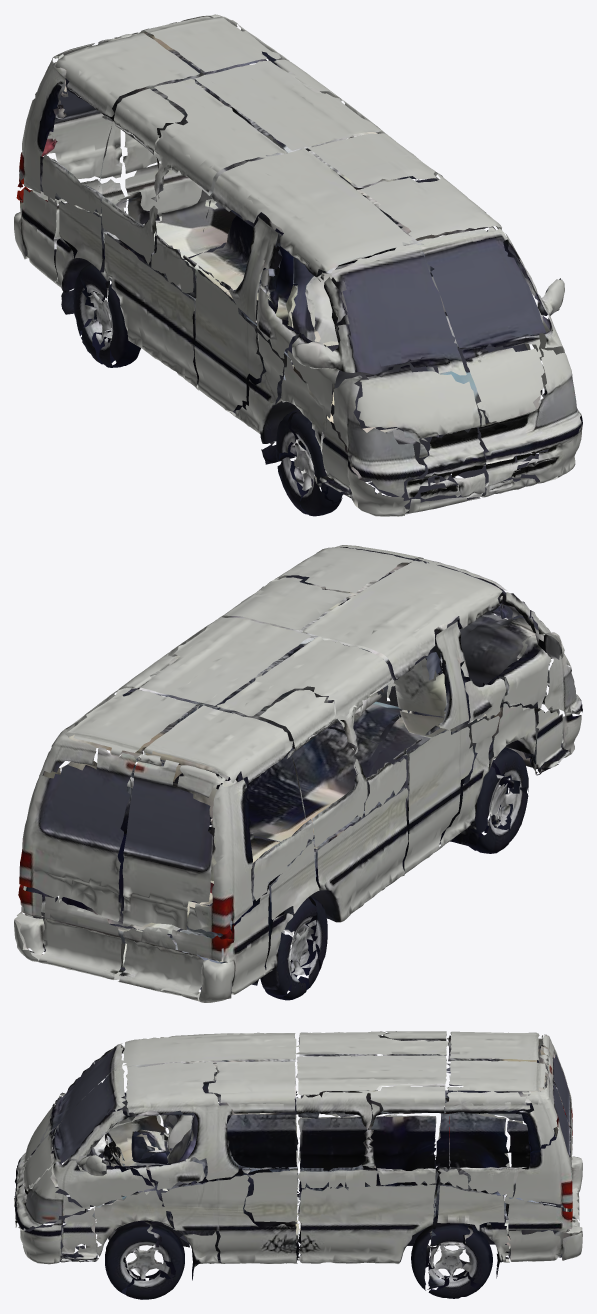
Rendered from hiace2000.glb.
3 renders of one model, top to bottom at view 1: azimuth 30°, elevation 25°; view 2: azimuth 150°, elevation 25°; view 3: azimuth 270°, elevation 25°, orthographic. The views are drawn at different scales.
Parts seen in each view (by area): view 1: Car; view 2: Car; view 3: Car.
Boxes of the visible parts, x1,y1,x2,y2 form: Car: [14, 14, 582, 516]; Car: [14, 545, 582, 1002]; Car: [14, 1031, 582, 1299].
Size of the model in its own units: 2.05 by 1.95 by 4.9.
Materials: 1 (1 with a texture image).
